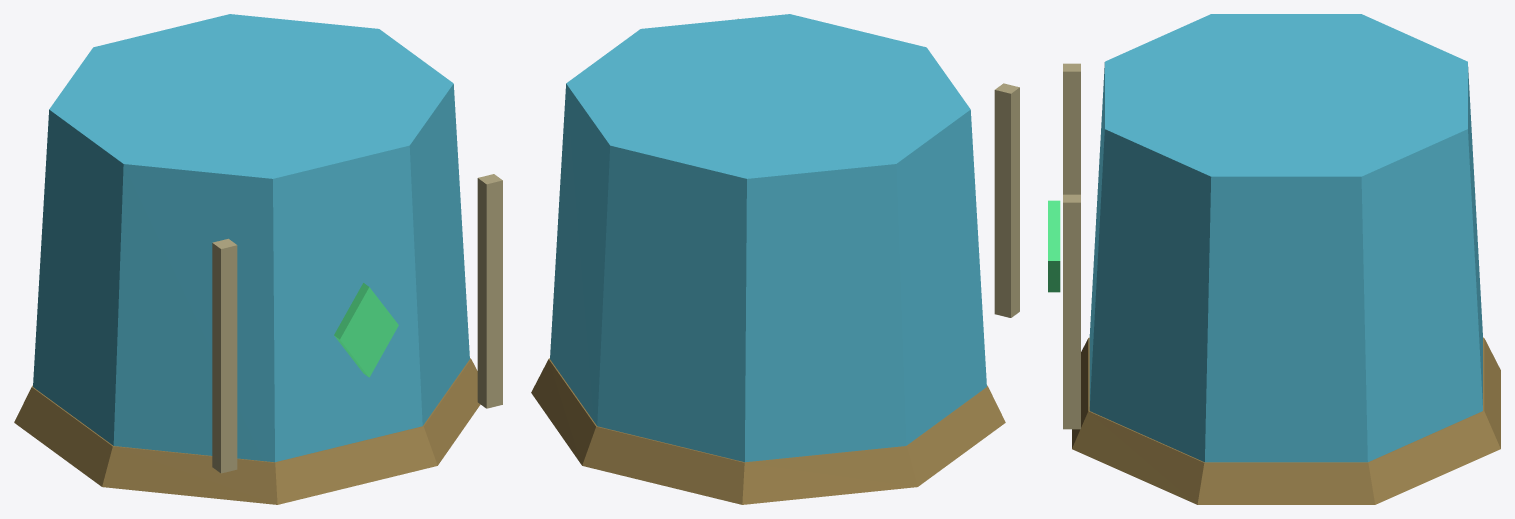
File: crystal_prison_level.obj
The picture shows the model from 3 angles, left to right: view 1: azimuth 30°, elevation 25°; view 2: azimuth 150°, elevation 25°; view 3: azimuth 270°, elevation 25°; orthographic projection.
Parts seen in each view (by area): view 1: crystal_prison, prison_sill, prison_bar_-0.26, prison_bar_0.26, prison_core, prison_bar_0.26_edge, prison_bar_-0.26_edge, prison_core_edge; view 2: crystal_prison, prison_sill, prison_bar_-0.26, prison_bar_-0.26_edge; view 3: crystal_prison, prison_sill, prison_bar_0.26_edge, prison_bar_-0.26_edge, prison_core_edge.
Part boxes in pixels (left/top/right/bottom): crystal_prison: left=33, top=14, right=469, bottom=462; prison_sill: left=14, top=358, right=480, bottom=504; prison_bar_-0.26: left=221, top=245, right=237, bottom=473; prison_bar_0.26: left=486, top=180, right=502, bottom=408; prison_core: left=340, top=287, right=398, bottom=377; prison_bar_0.26_edge: left=477, top=174, right=502, bottom=408; prison_bar_-0.26_edge: left=212, top=238, right=236, bottom=472; prison_core_edge: left=334, top=283, right=368, bottom=376; crystal_prison: left=550, top=14, right=986, bottom=462; prison_sill: left=531, top=358, right=1005, bottom=504; prison_bar_-0.26: left=994, top=90, right=1010, bottom=317; prison_bar_-0.26_edge: left=995, top=83, right=1019, bottom=317; crystal_prison: left=1089, top=14, right=1482, bottom=462; prison_sill: left=1072, top=337, right=1500, bottom=504; prison_bar_0.26_edge: left=1063, top=194, right=1080, bottom=429; prison_bar_-0.26_edge: left=1063, top=63, right=1080, bottom=194; prison_core_edge: left=1048, top=200, right=1060, bottom=292.
Bounding box in the file's own units: 0.7576 × 0.5825 × 0.7605.
